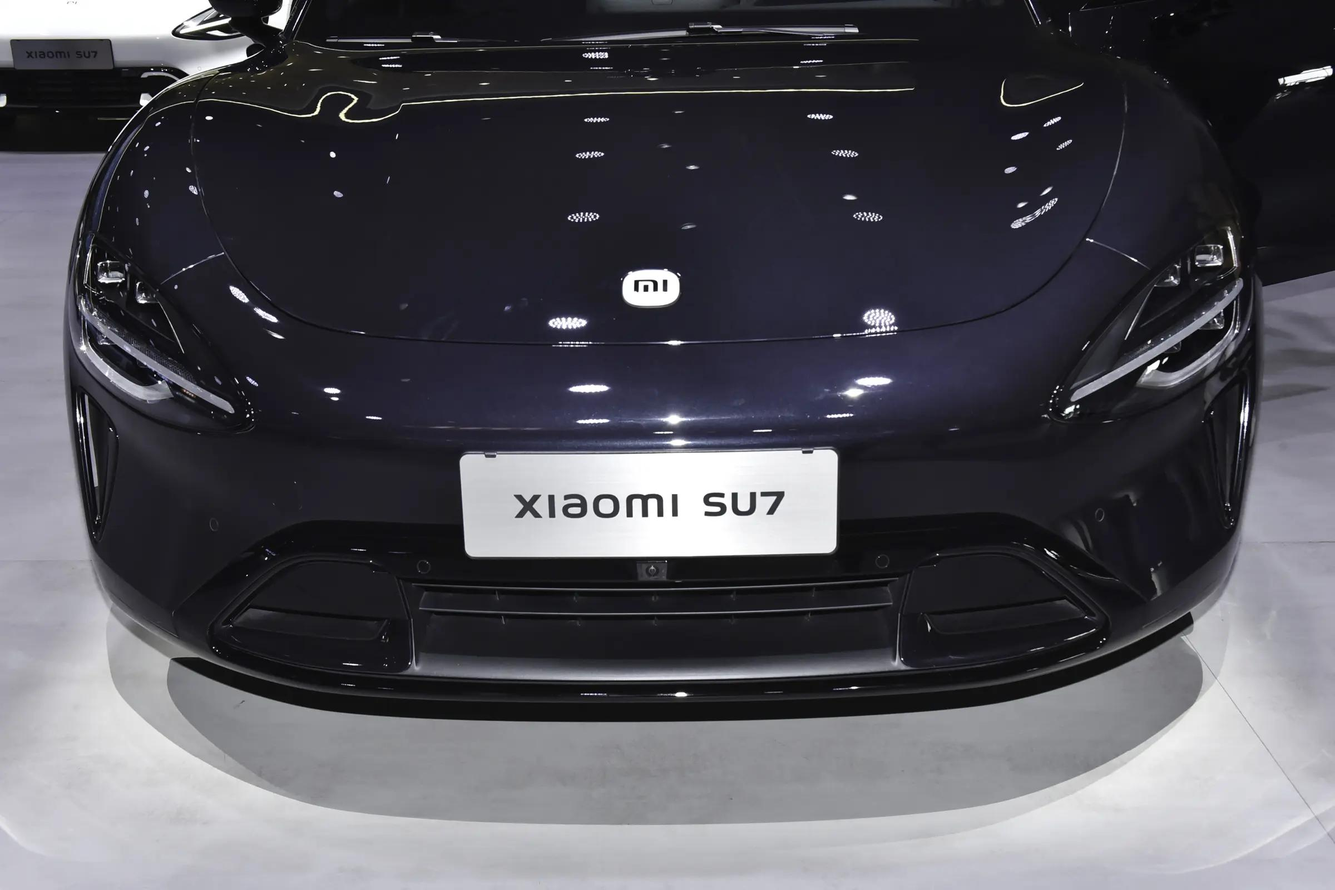XIAOMI: (622, 269, 680, 307)
